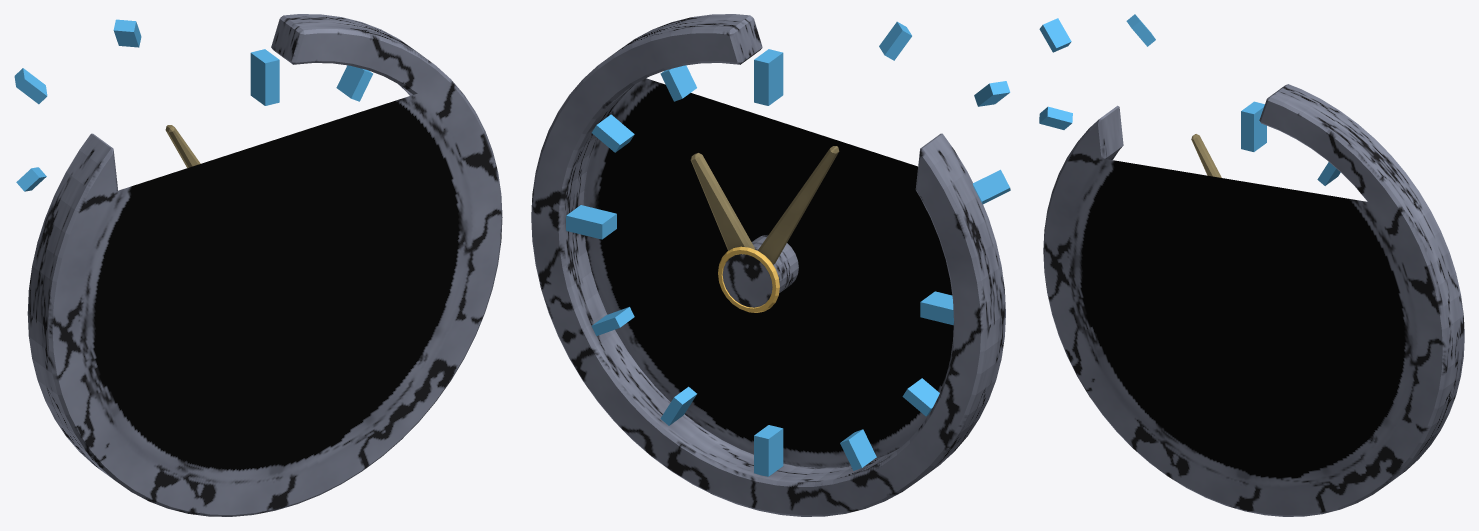
File: BG_ClockRuin.obj
3 views of the same model, side by side, from view 1: azimuth 30°, elevation 25°; view 2: azimuth 150°, elevation 25°; view 3: azimuth 330°, elevation 25° (orthographic). The views are drawn at different scales.
Visible parts, largest first — view 1: BG_ClockRuin; view 2: BG_ClockRuin; view 3: BG_ClockRuin.
Boxes of the visible parts, x1,y1,x2,y2 form: BG_ClockRuin: [14, 14, 502, 516]; BG_ClockRuin: [531, 14, 1010, 516]; BG_ClockRuin: [1039, 14, 1464, 516].
Size of the model in its own units: 0.9636 by 1 by 0.1176.
1 material, 1 textured.
